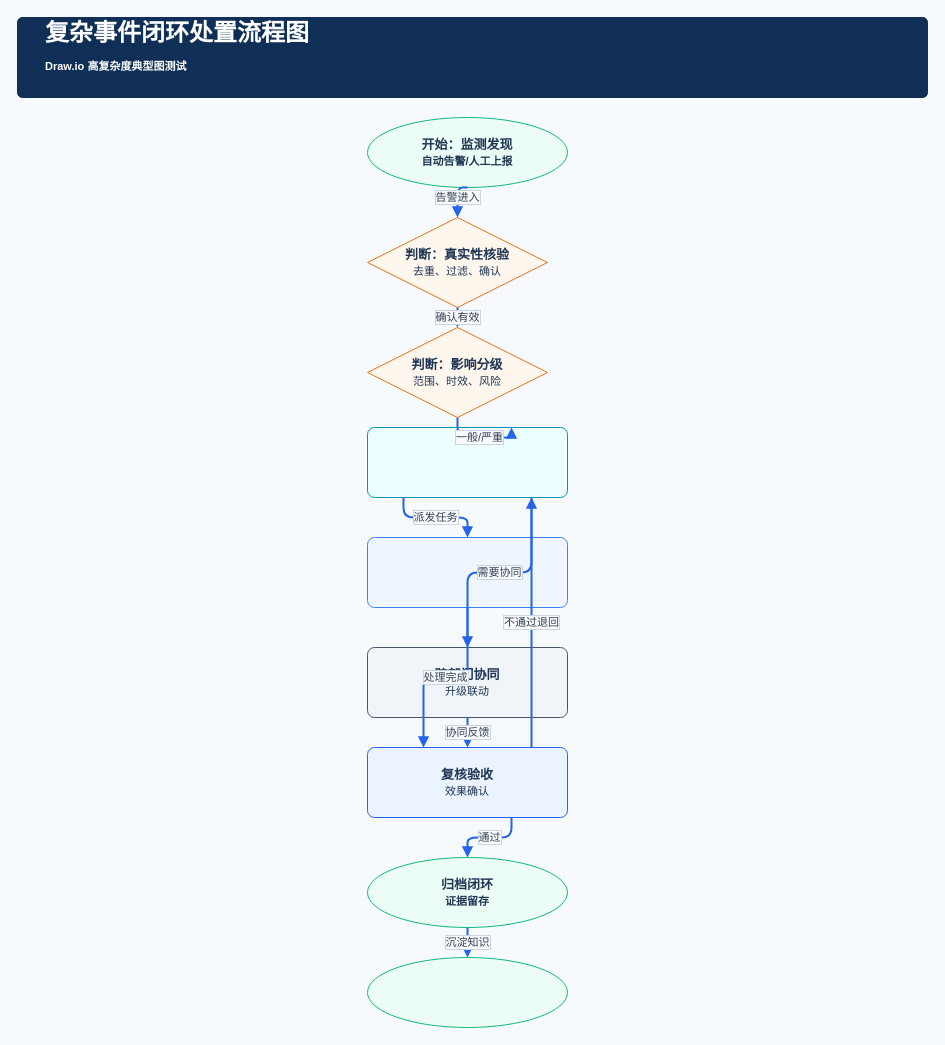
The diagram is 945 pixels wide and 1045 high, and some of its shapes have lost their labels. The box of each missing label's shape, as (x1, y1, x2, y2) in pixels:
处置派单 责任组与时限: (366, 426, 568, 498)
复盘优化 规则改进: (366, 956, 568, 1028)
现场处置 定位、修复、反馈: (366, 536, 568, 608)
